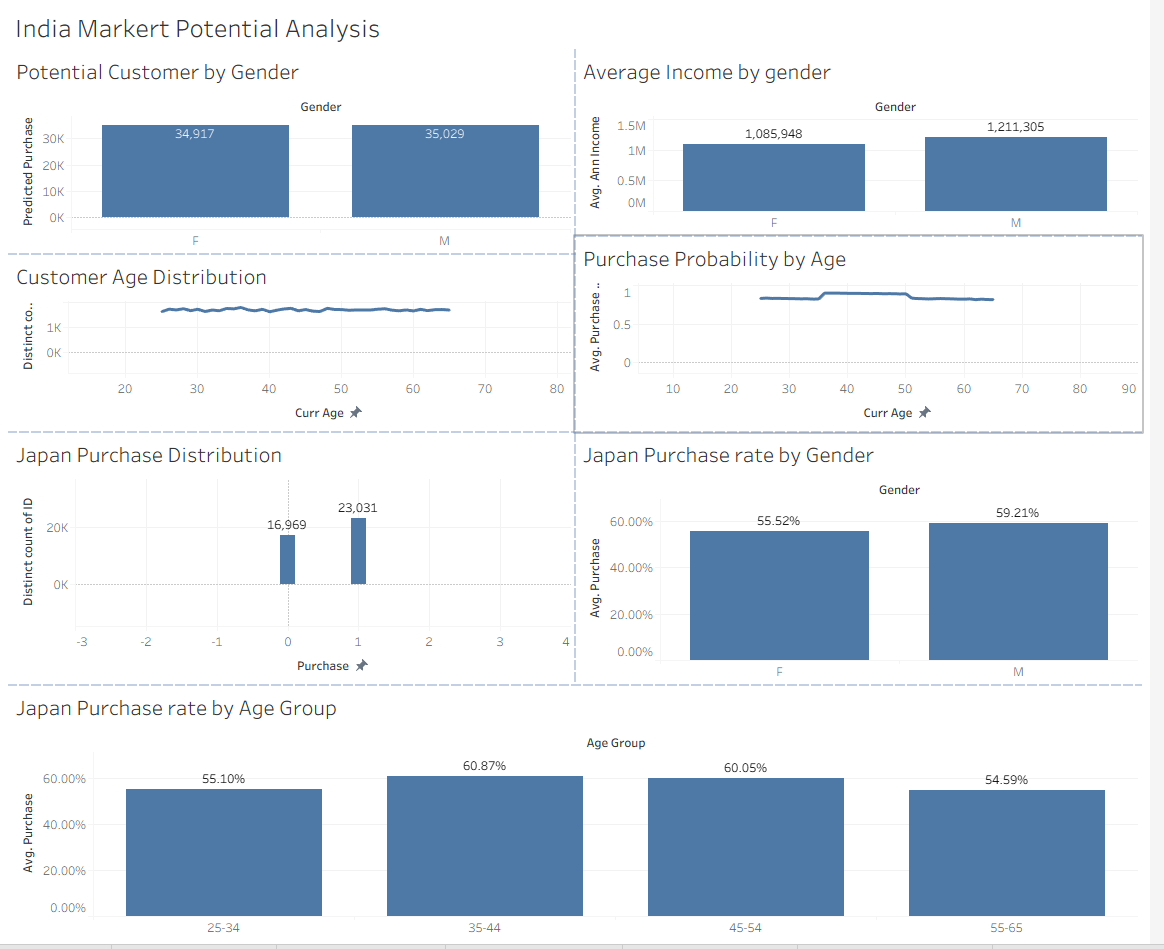

Layout of this report page (visuals, bound fields, positions):
{"tool":"tableau","page":{"name":"Dashboard 1","canvas":[1200,1000],"ordinal":0},"visuals":[{"type":"title","box":[8,8,1184,42]},{"type":"worksheet","title":"Potential Customer by Gender ","mark":"Automatic","rows":["PREDICTED_PURCHASE"],"cols":["GENDER"],"box":[8,50,592,217]},{"type":"worksheet","title":"Average Income by gender","mark":"Automatic","rows":["ANN_INCOME"],"cols":["GENDER"],"box":[600,50,592,198]},{"type":"worksheet","title":"Purchase Probability by Age ","mark":"Automatic","rows":["PURCHASE_PROBABILITY"],"cols":["CURR_AGE"],"box":[600,248,592,206.9]},{"type":"worksheet","title":"Customer Age Distribution ","mark":"Automatic","rows":["ID"],"cols":["CURR_AGE"],"box":[8,267,592,187.9]},{"type":"worksheet","title":"Japan Purchase Distribution","mark":"Bar","rows":["ID"],"cols":["PURCHASE"],"box":[8,454.9,592,267.1]},{"type":"worksheet","title":"Japan Purchase rate by Gender ","mark":"Automatic","rows":["PURCHASE"],"cols":["GENDER"],"box":[600,454.9,592,267.1]},{"type":"worksheet","title":"Japan Purchase rate by Age Group","mark":"Automatic","rows":["PURCHASE"],"cols":["AGE_GROUP"],"box":[8,722,1184,270]}]}

Visuals, with their boxes in screenshot pixels (x1, y1, x2, y2), scaled from the page's 1200x1000 canvas onto the 1164x949 screenshot:
title: [8, 8, 1156, 47]
"Potential Customer by Gender " worksheet: [8, 47, 582, 253]
"Average Income by gender" worksheet: [582, 47, 1156, 235]
"Purchase Probability by Age " worksheet: [582, 235, 1156, 432]
"Customer Age Distribution " worksheet: [8, 253, 582, 432]
"Japan Purchase Distribution" worksheet (Bar marks): [8, 432, 582, 685]
"Japan Purchase rate by Gender " worksheet: [582, 432, 1156, 685]
"Japan Purchase rate by Age Group" worksheet: [8, 685, 1156, 941]
